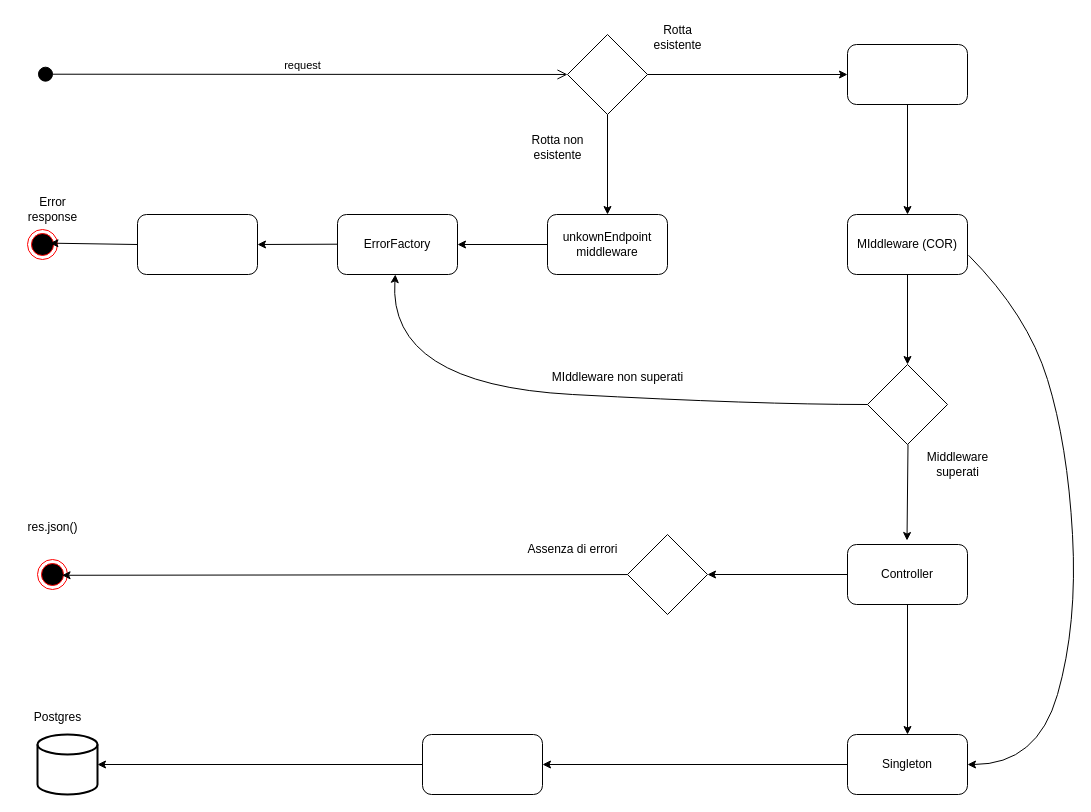
Image size: 1091x812. Some labels were removed from this diagram. Here are the shapes that lost their labels. From the top down, the box of each, then its label:
(846, 44, 968, 104): Router
(136, 214, 258, 274): error Middleware
(422, 734, 542, 794): Sequelize
